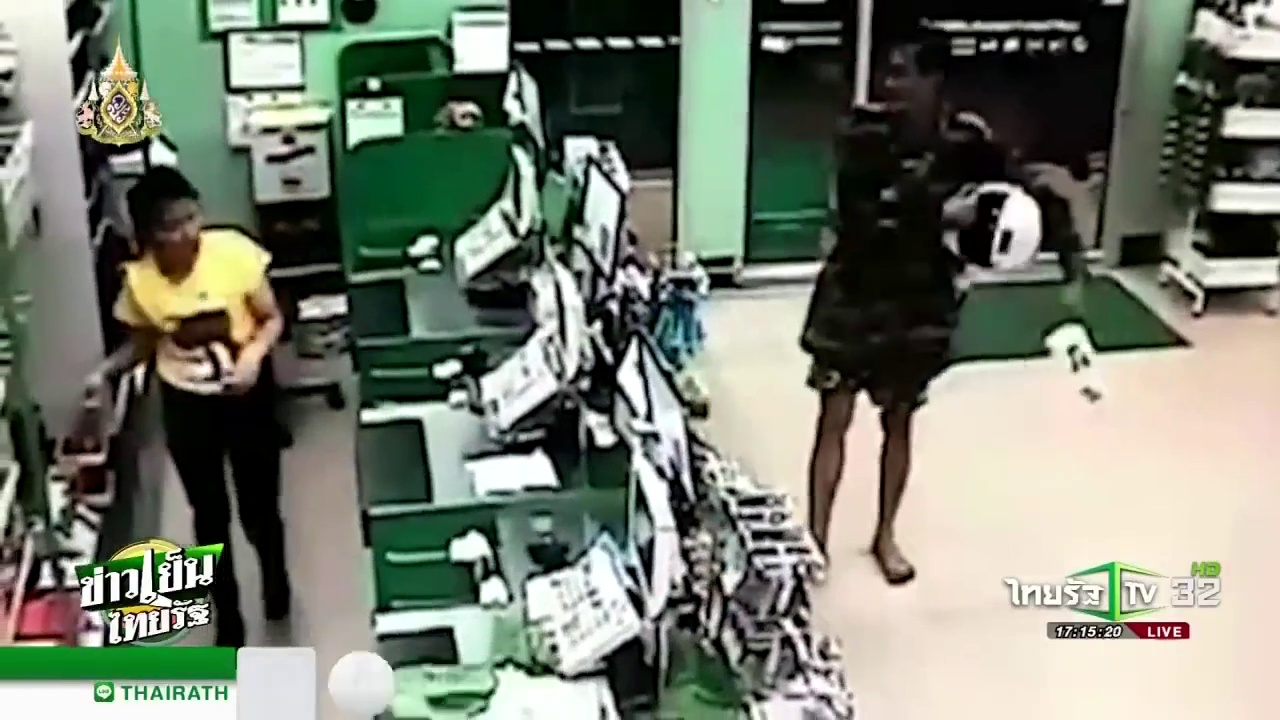helmet: (943, 169, 1046, 277)
